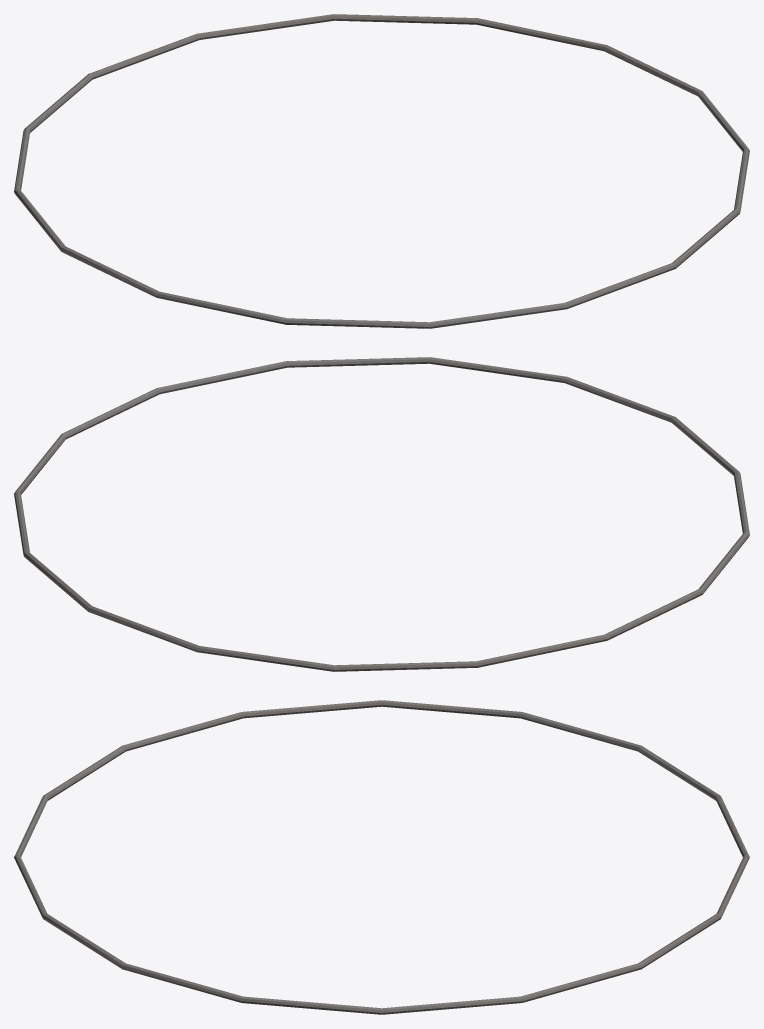
File: tesuri_uti.fbx
3 views of the same model, one above another, from view 1: azimuth 30°, elevation 25°; view 2: azimuth 150°, elevation 25°; view 3: azimuth 270°, elevation 25° (orthographic).
Parts seen in each view (by area): view 1: pTorus1; view 2: pTorus1; view 3: pTorus1.
Boxes of the visible parts, box(x1,y1,x2,y2) form: pTorus1: box(14, 14, 749, 328); pTorus1: box(14, 357, 749, 671); pTorus1: box(14, 700, 749, 1014).
Size of the model in its own units: 10.5 by 0.1 by 10.5.
Materials: 1 (1 with a texture image).
